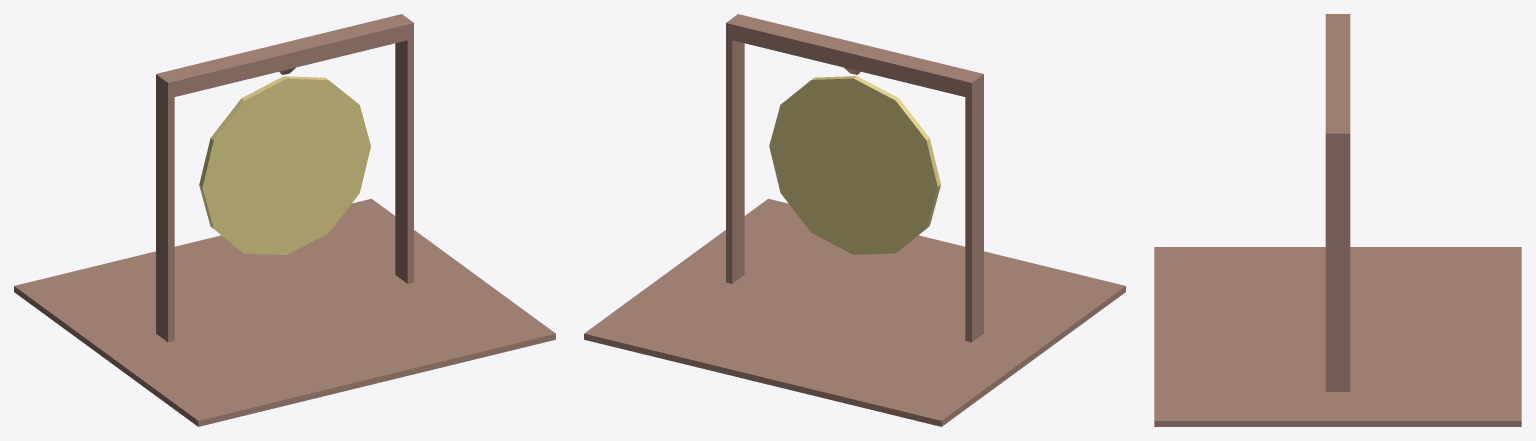
File: M_blockout_Bell.fbx
3 views of the same model, side by side, from view 1: azimuth 30°, elevation 25°; view 2: azimuth 150°, elevation 25°; view 3: azimuth 270°, elevation 25° (orthographic).
Parts seen in each view (by area): view 1: Cube.035; view 2: Cube.035; view 3: Cube.035.
Boxes of the visible parts, <box> form: Cube.035: <box>14,14,555,426</box>; Cube.035: <box>584,14,1125,426</box>; Cube.035: <box>1154,14,1521,426</box>.
Bounding box in the file's own units: 297 × 213 × 266.
